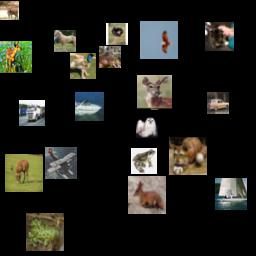airplane: (45, 147, 77, 179)
automobile: (207, 92, 229, 114)
bird: (140, 21, 178, 59), (70, 53, 96, 79), (106, 23, 128, 45)
cat: (169, 137, 207, 175), (205, 22, 234, 51)
deer: (128, 176, 166, 214), (5, 154, 43, 192), (137, 75, 172, 110), (0, 41, 32, 73), (0, 1, 19, 20)
dog: (136, 116, 158, 138)
frog: (26, 213, 64, 251), (131, 148, 157, 174), (99, 46, 121, 68)
ship: (215, 178, 247, 210), (75, 92, 104, 121)
truck: (19, 100, 45, 126)
